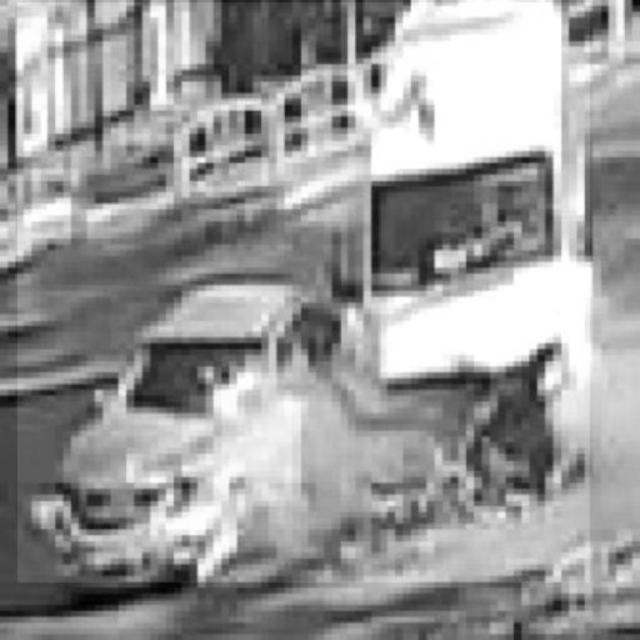accident: (17, 3, 589, 583)
